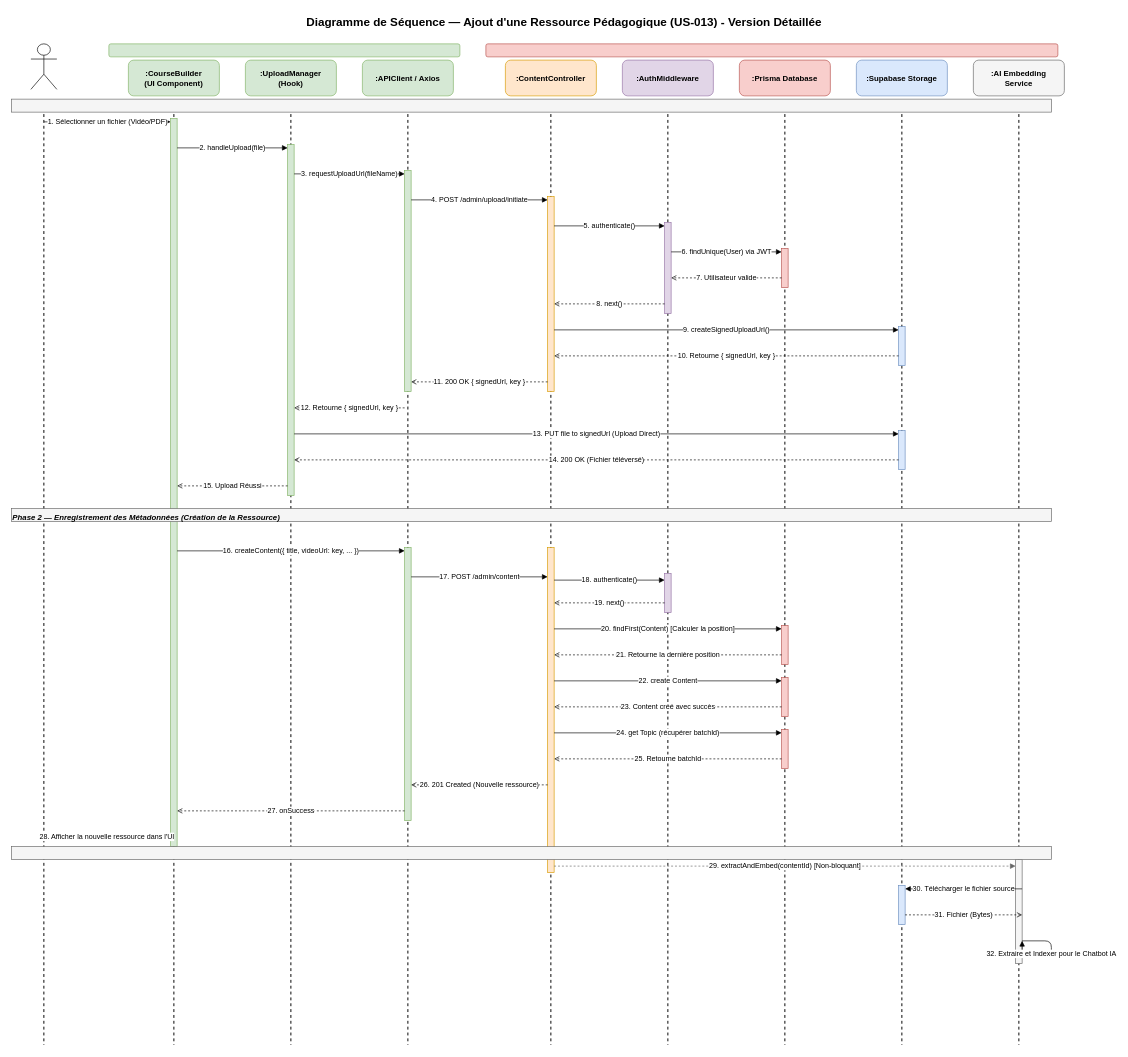
Image size: 1128x1057. Some labels were removed from this diagram. The centre of each missing label's shape, as x and y in pixels:
"Backend + db + Services" belongs at [771,50].
"Frontend" belongs at [284,50].
"Instructeur" belongs at [43,66].
"Phase 1 — Initialisation et Téléversement Sécurisé (Supabase)" belongs at [531,105].
"Phase 3 — Génération IA et Embeddings (Tâche en arrière-plan)" belongs at [531,853].
